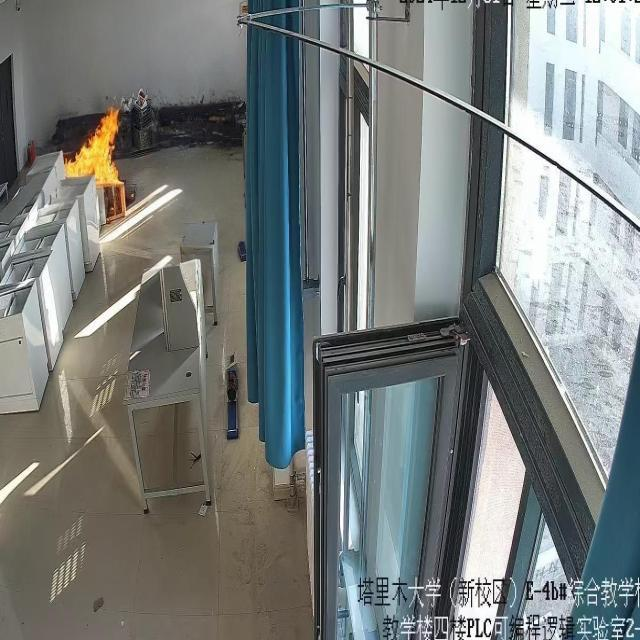smoke: (66, 96, 124, 196)
